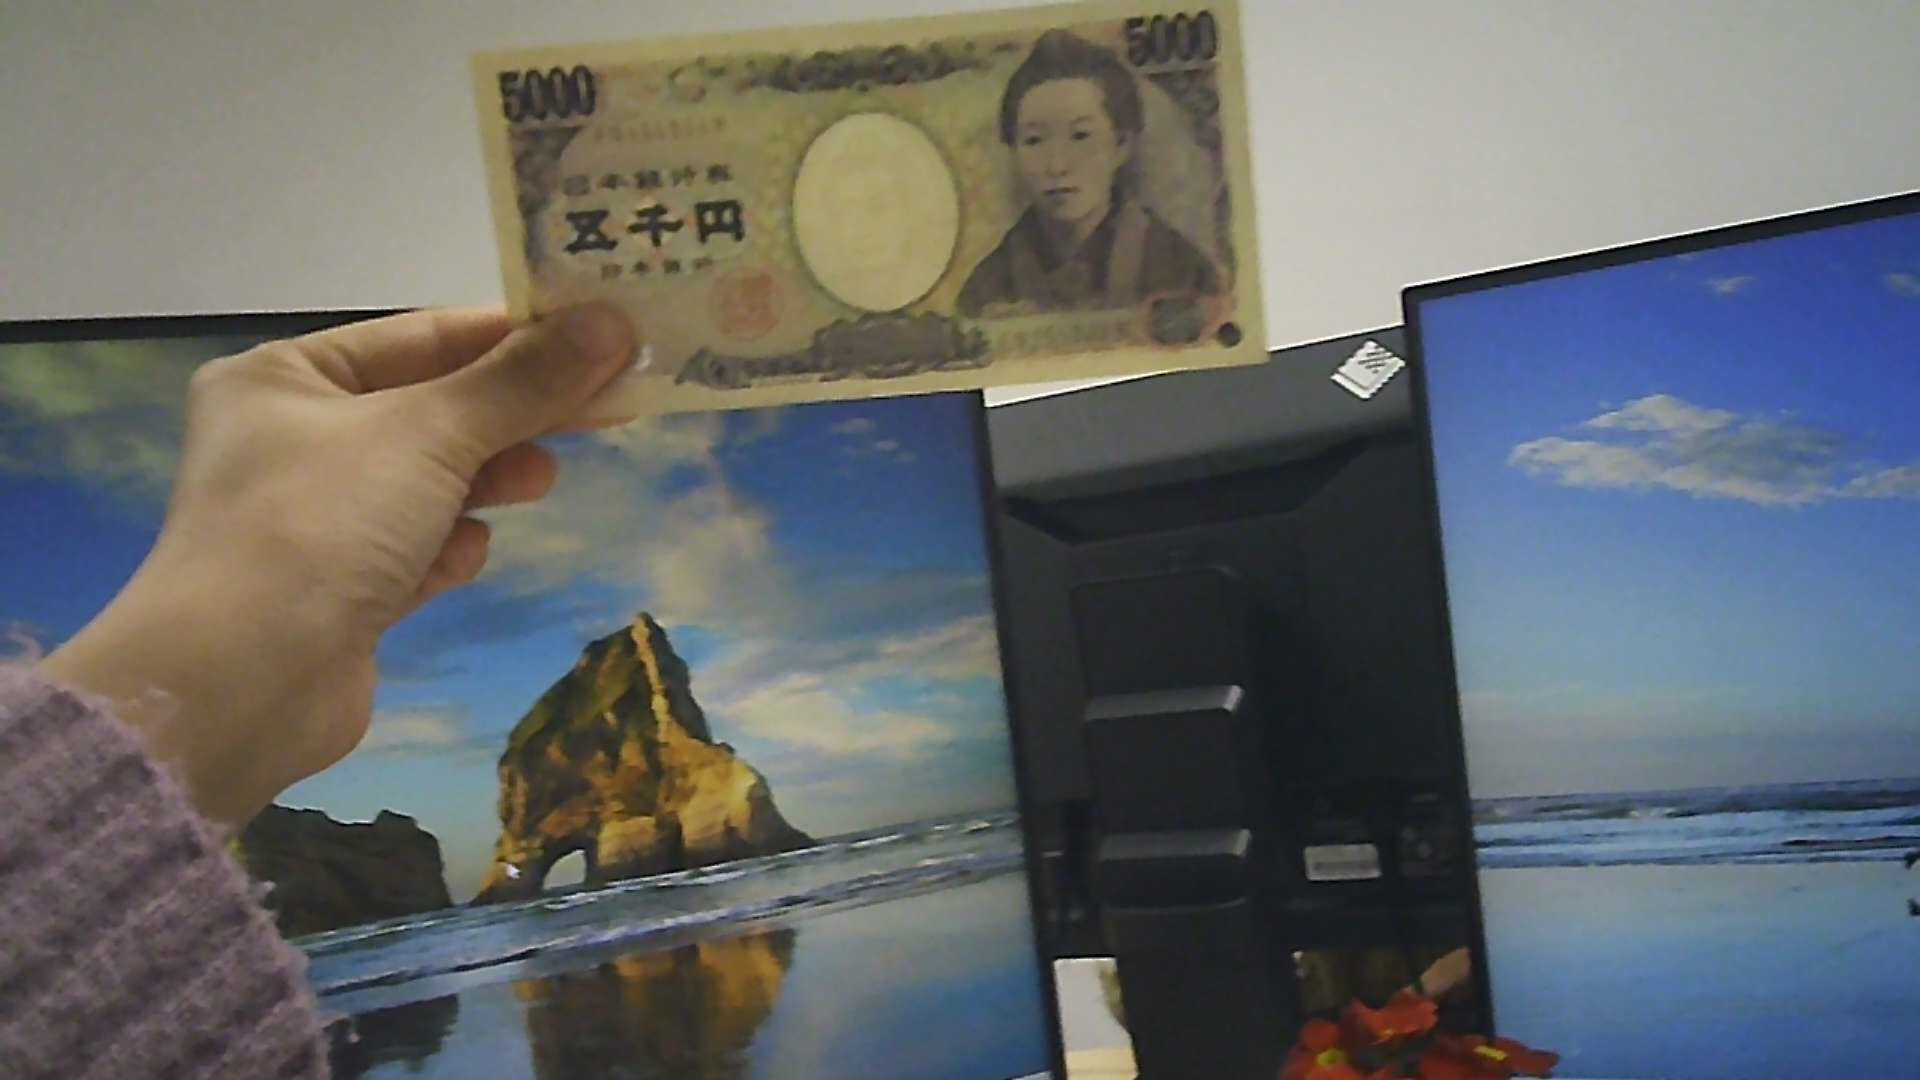5,000 Yen: (468, 3, 1283, 386)
